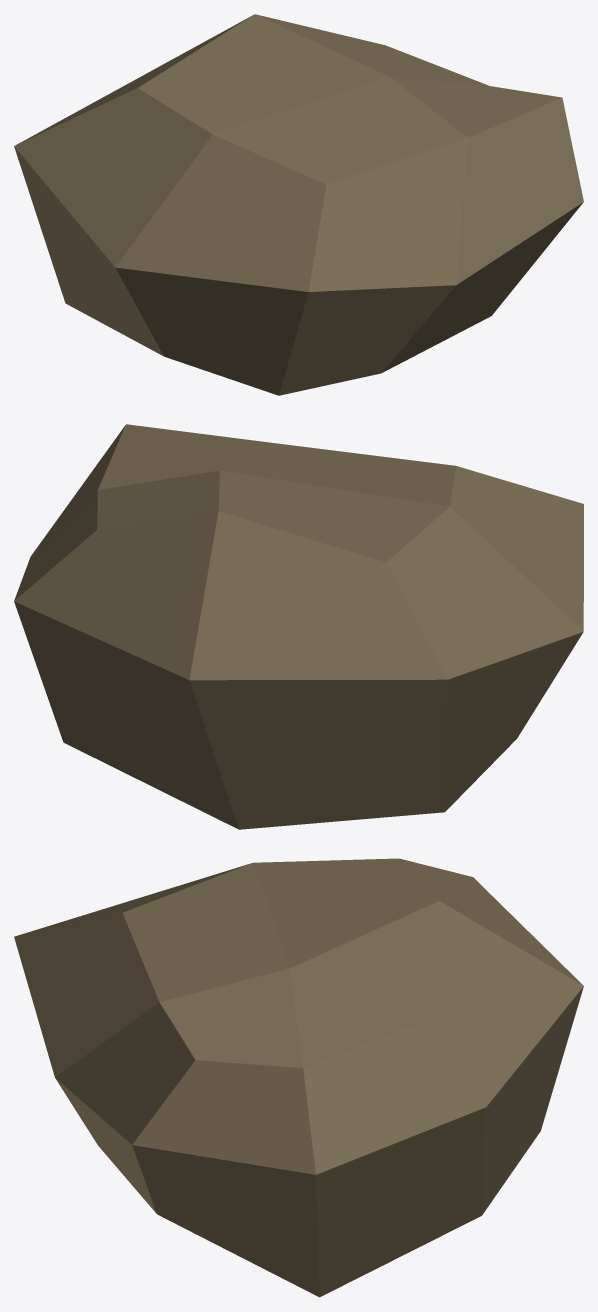
File: rock_1.obj
3 renders of one model, top to bottom at view 1: azimuth 30°, elevation 25°; view 2: azimuth 150°, elevation 25°; view 3: azimuth 270°, elevation 25°, orthographic. The views are drawn at different scales.
Visible parts, largest first — view 1: rock_1; view 2: rock_1; view 3: rock_1.
Boxes of the visible parts, box(x1,y1,x2,y2) form: rock_1: box(14, 14, 583, 395); rock_1: box(14, 424, 583, 829); rock_1: box(14, 858, 583, 1297).
Size of the model in its own units: 3.72 by 2.18 by 3.6.
